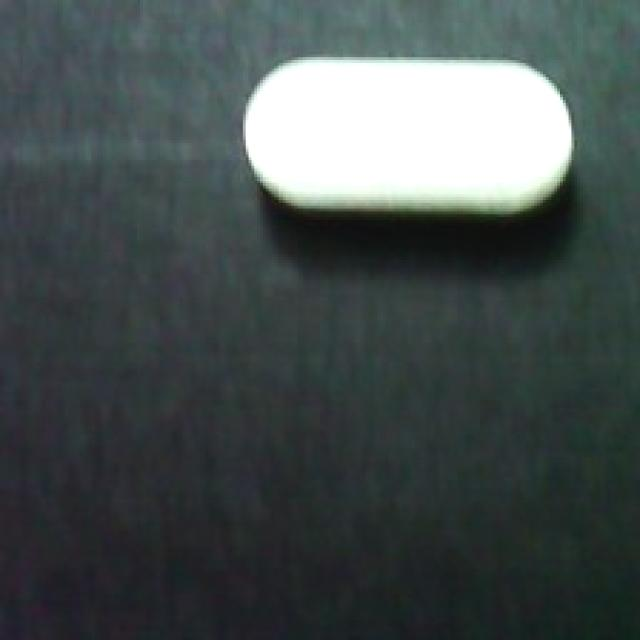no-defect: (237, 49, 580, 237)
